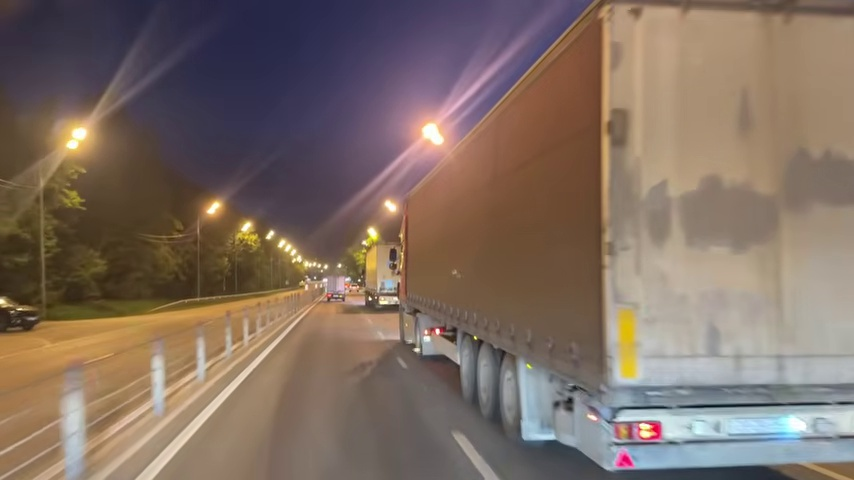acesa: (60, 121, 95, 157), (416, 119, 448, 150), (202, 197, 225, 220), (236, 220, 257, 242), (382, 198, 400, 216), (364, 226, 381, 243)
